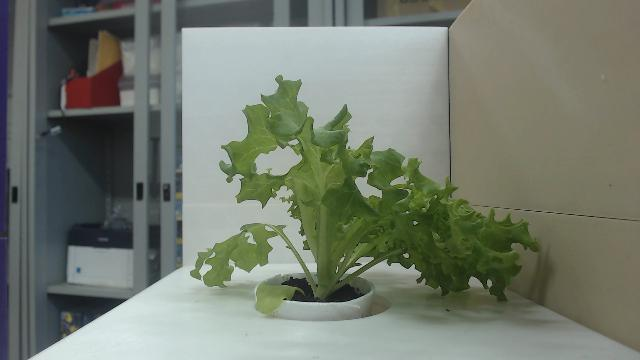Harvest Stage: (191, 74, 541, 316)
